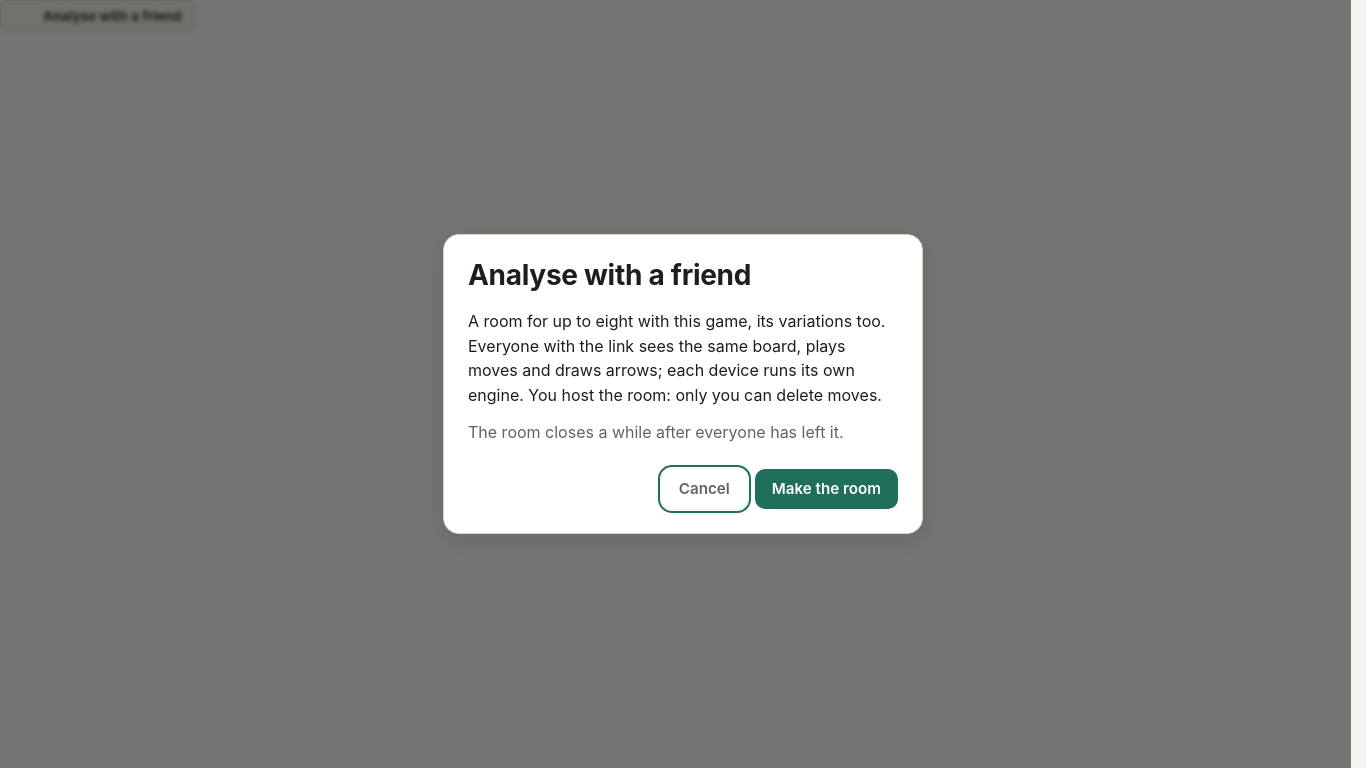
Test: Analyse with a friend › opens from quick search, and says when the room cannot be made
Click the button "Make the room".
click(826, 489)  # box [755,469,898,509]
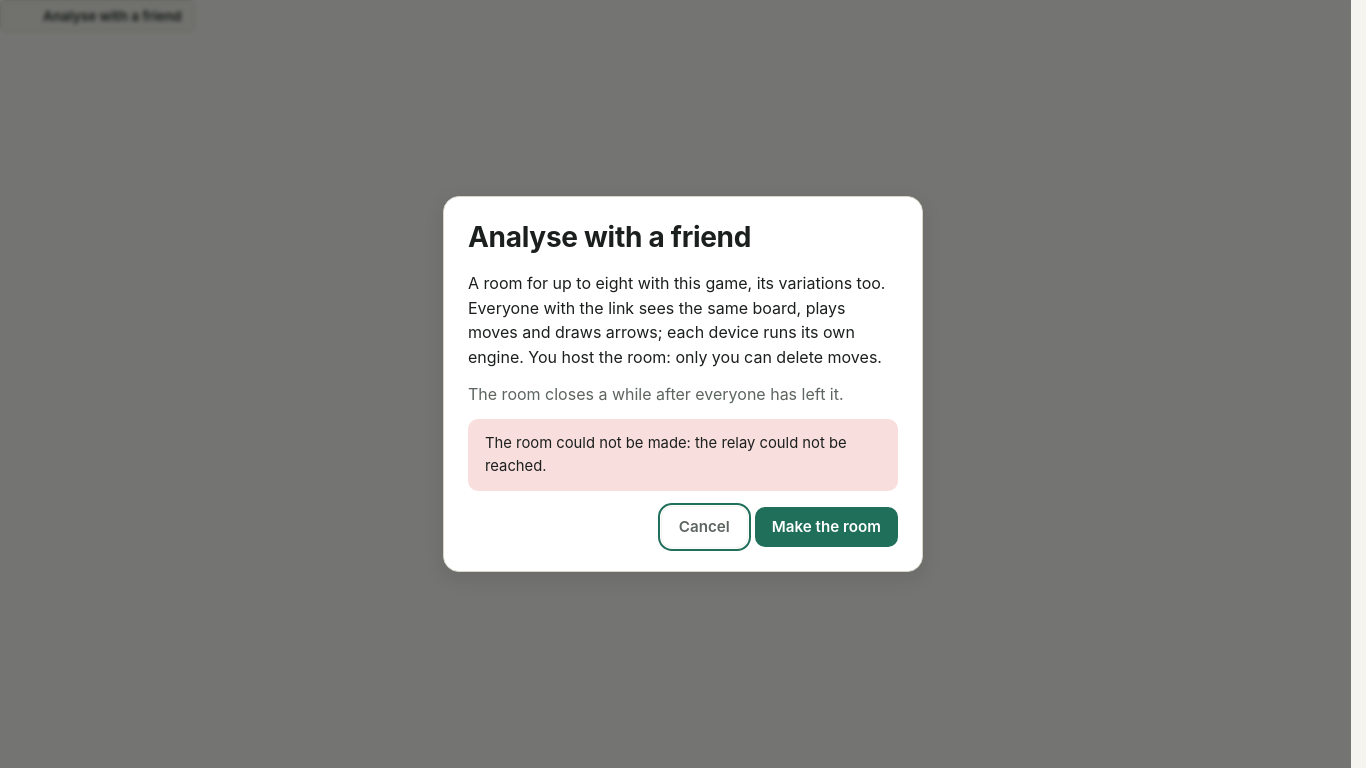
Check: the message reads "The room could not be made: the relay could not be reached.", box [485,434,847,475]
